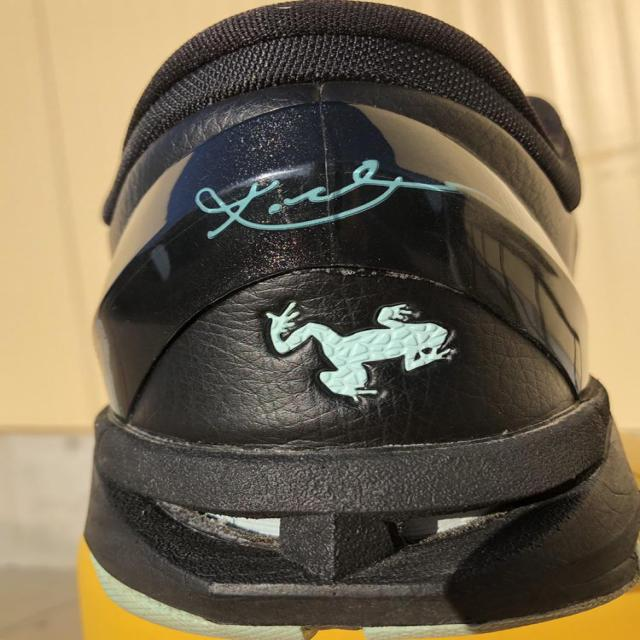shoe: (78, 0, 640, 640)
